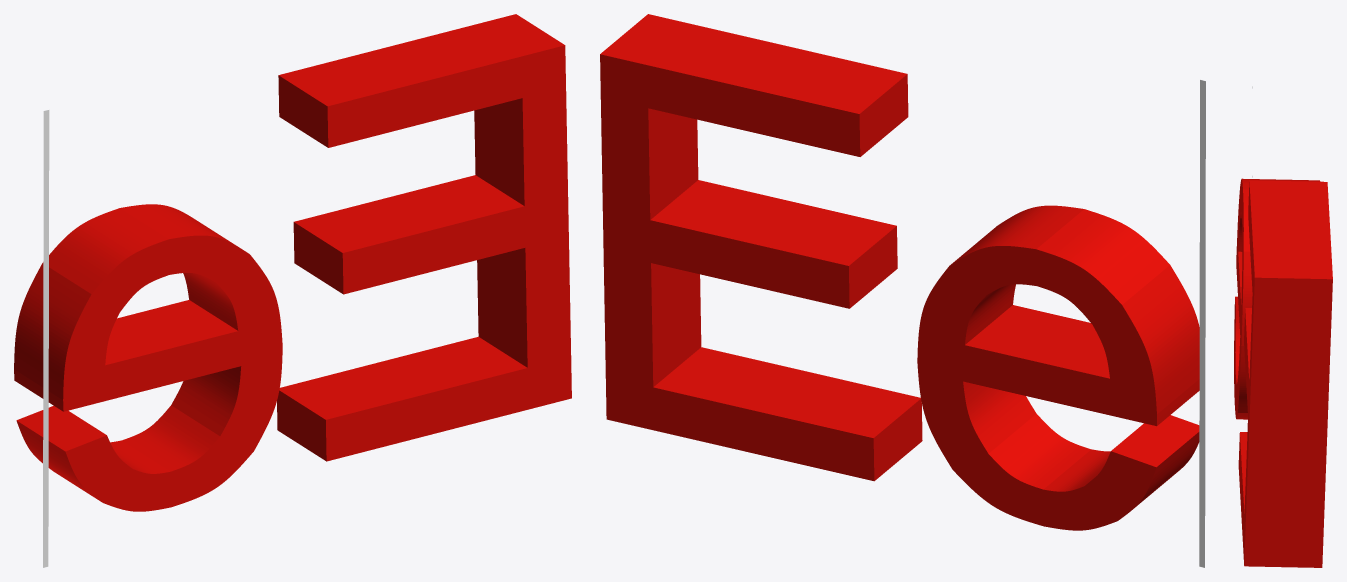
3 views of the same model, side by side, from view 1: azimuth 30°, elevation 25°; view 2: azimuth 150°, elevation 25°; view 3: azimuth 270°, elevation 25° (orthographic). The views are drawn at different scales.
Parts seen in each view (by area): view 1: Mesh_0.005, Плоскость; view 2: Mesh_0.005, Плоскость; view 3: Mesh_0.005.
Boxes of the visible parts, bbox=[...] form: Mesh_0.005: bbox=[14, 14, 571, 511]; Плоскость: bbox=[43, 110, 49, 567]; Mesh_0.005: bbox=[600, 14, 1199, 530]; Плоскость: bbox=[1199, 80, 1205, 567]; Mesh_0.005: bbox=[1234, 178, 1332, 567].
Bounding box in the file's own units: 11.24 × 9.38 × 2.22.
